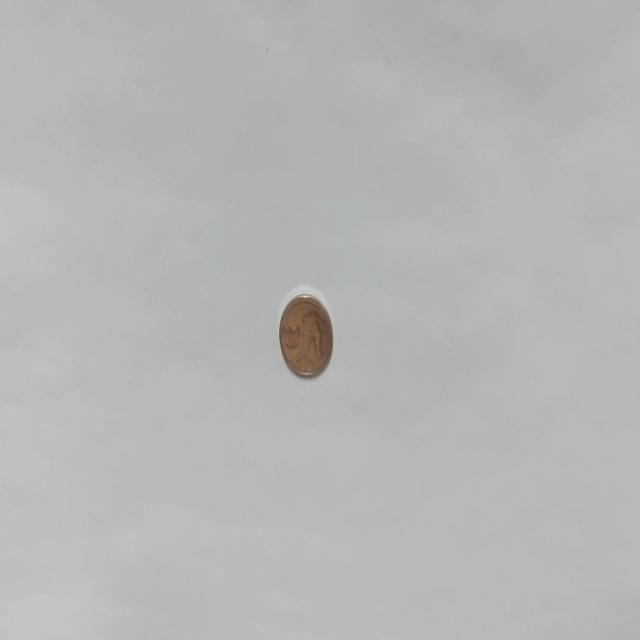seribu rupiah koin: (277, 289, 333, 379)
